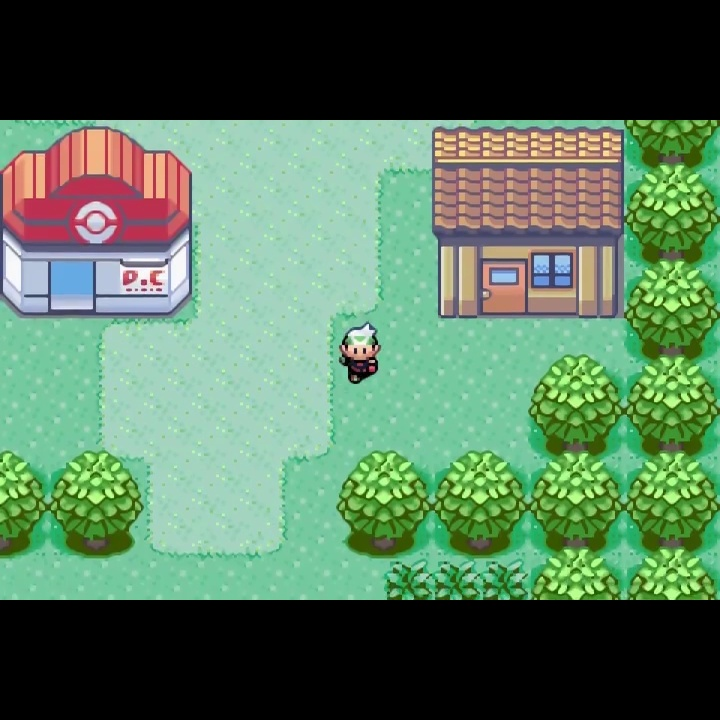grass: (384, 558, 434, 600), (479, 558, 529, 600), (434, 558, 480, 600)
house: (428, 123, 628, 324)
npc: (337, 320, 383, 389)
pokecen: (1, 124, 195, 319)
wall: (431, 447, 529, 560), (335, 448, 433, 560), (48, 449, 148, 558), (528, 447, 624, 554), (625, 449, 720, 553), (625, 163, 720, 266), (528, 353, 625, 451), (625, 352, 720, 452), (626, 260, 720, 354), (1, 449, 49, 559), (531, 549, 625, 600), (626, 550, 720, 600), (626, 119, 720, 163)
